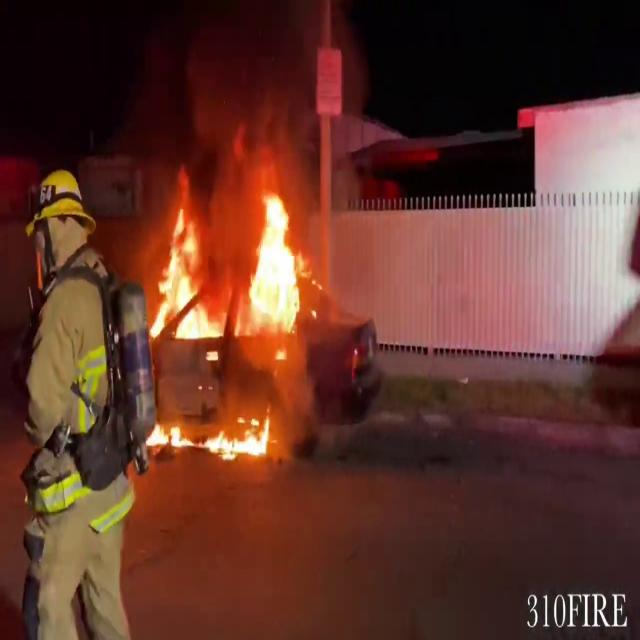Fire: (144, 146, 316, 352), (146, 412, 277, 460)
Smoke: (199, 0, 314, 165)
